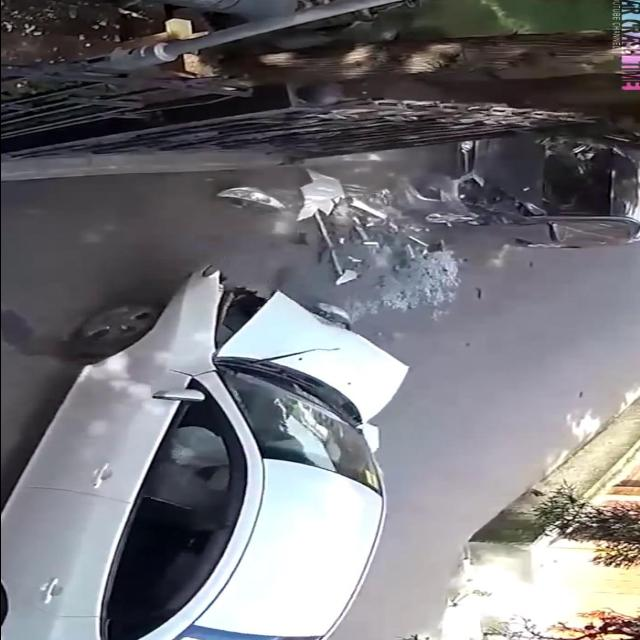accident: (0, 261, 425, 639), (208, 127, 640, 261)
